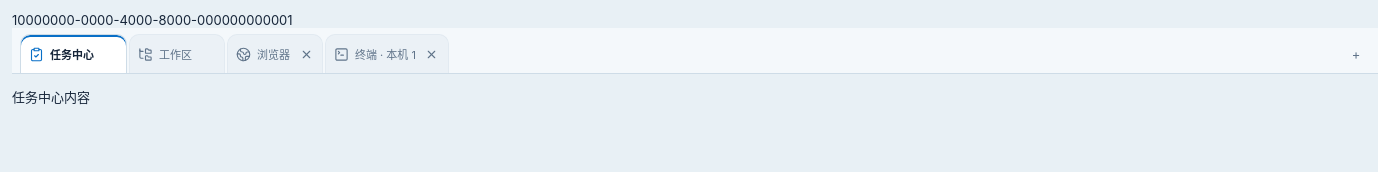
WorkbarShell › closes an active closable tab, activates its neighbor, and restores focus
Click the tab "浏览器": (275, 54) [228,35,322,73]
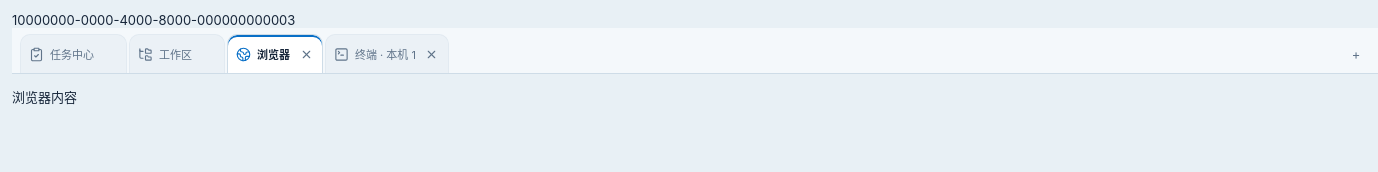
Click the button named "关闭浏览器": (306, 54) [294,42,318,66]
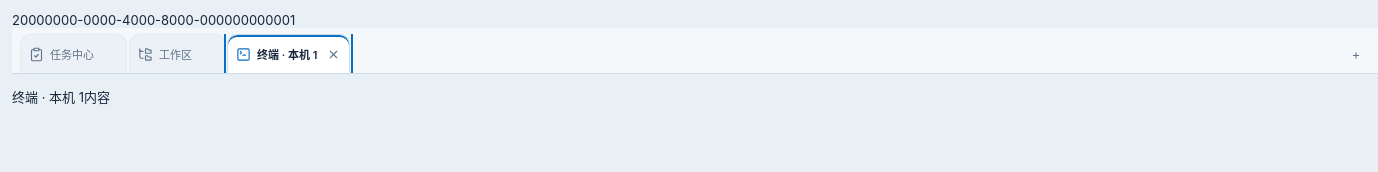
Check: the tab "浏览器" is gone
